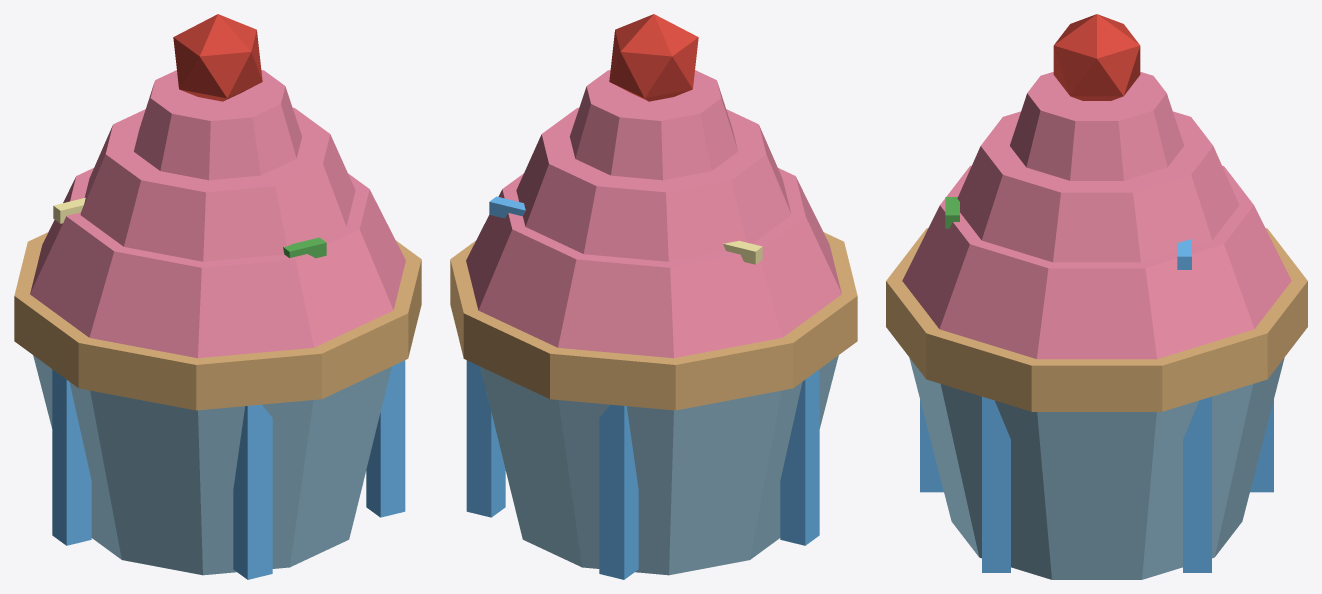
Rendered from CatCafe_Prop_PicnicCupcake.glb.
3 renders of one model, left to right at view 1: azimuth 30°, elevation 25°; view 2: azimuth 150°, elevation 25°; view 3: azimuth 270°, elevation 25°, orthographic.
Parts seen in each view (by area): view 1: CatCafe_Prop_PicnicCupcake; view 2: CatCafe_Prop_PicnicCupcake; view 3: CatCafe_Prop_PicnicCupcake.
Boxes of the visible parts, bbox=[...] form: CatCafe_Prop_PicnicCupcake: bbox=[14, 14, 421, 579]; CatCafe_Prop_PicnicCupcake: bbox=[450, 14, 857, 579]; CatCafe_Prop_PicnicCupcake: bbox=[886, 14, 1307, 579].
Bounding box in the file's own units: 0.5516 × 0.77 × 0.58.
Materials: 1 (1 with a texture image).
